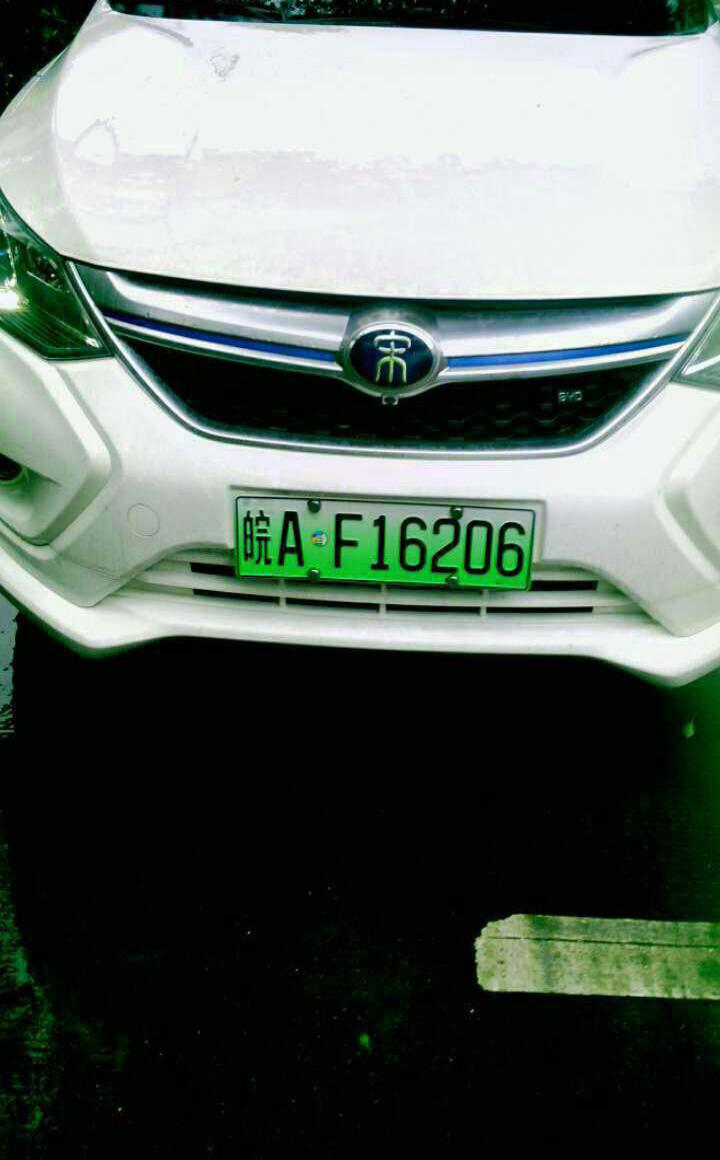car_id: (236, 497, 533, 589)
